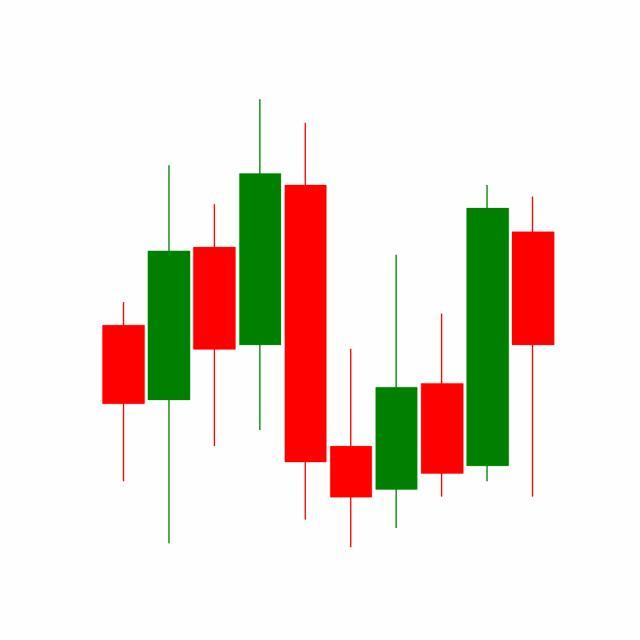Hikkake Pattern: (283, 119, 512, 549)
